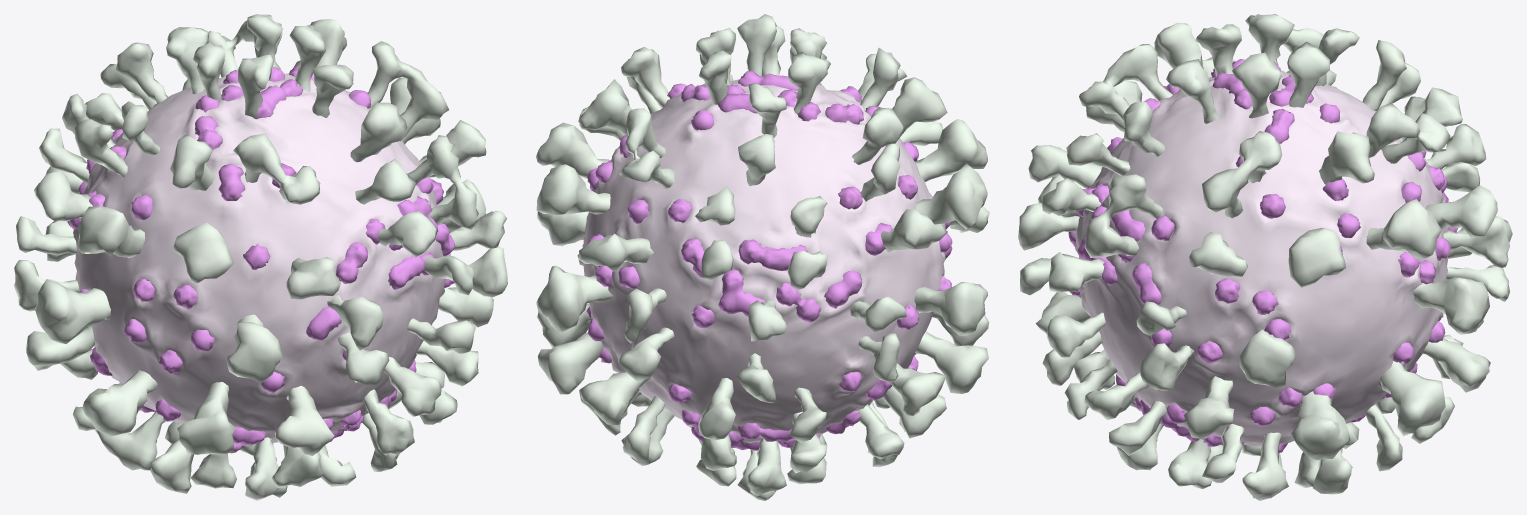
Rendered from virusCovid.FBX.
3 renders of one model, left to right at view 1: azimuth 30°, elevation 25°; view 2: azimuth 150°, elevation 25°; view 3: azimuth 270°, elevation 25°, orthographic. The views are drawn at different scales.
Visible parts, largest first — view 1: legs, body, joint; view 2: legs, body, joint; view 3: legs, body, joint.
Boxes of the visible parts, x1,y1,x2,y2 form: legs: (14,14,507,500); body: (73,73,447,445); joint: (67,65,455,453); legs: (536,14,989,500); body: (582,79,945,443); joint: (586,71,952,450); legs: (1018,14,1512,500); body: (1075,70,1448,446); joint: (1068,59,1457,452).
Size of the model in its own units: 2.82 by 2.7 by 2.73.
